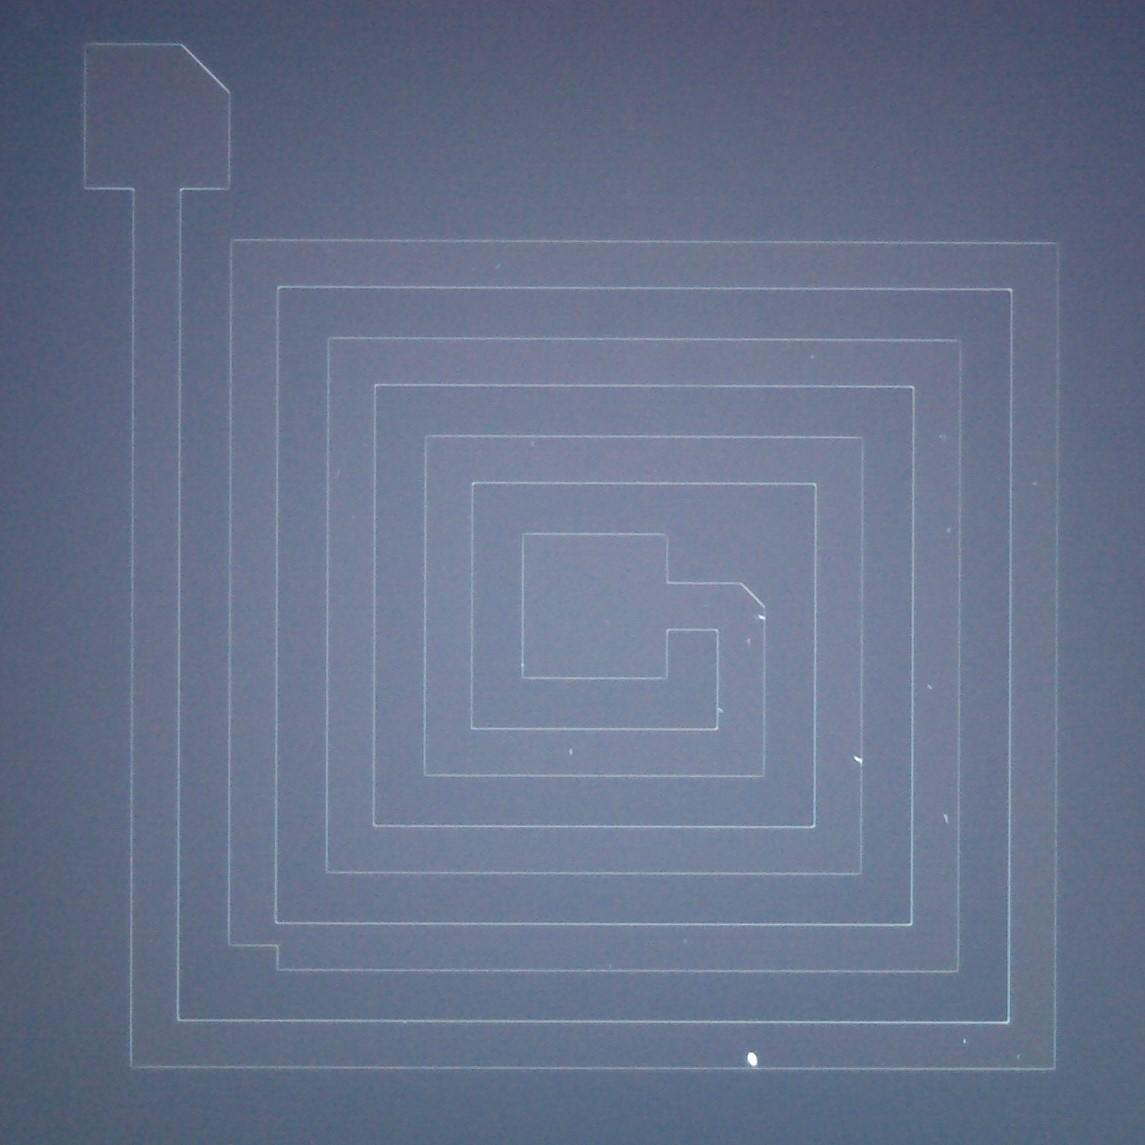B_point: (744, 1050, 760, 1068), (851, 754, 865, 766), (939, 812, 952, 824), (756, 612, 768, 623)
cut: (206, 893, 316, 989), (168, 30, 254, 108), (729, 566, 786, 630)
s_point: (958, 1035, 971, 1049), (1012, 1051, 1025, 1063), (924, 680, 936, 694), (943, 523, 955, 537), (1029, 477, 1041, 490), (935, 431, 948, 444), (714, 705, 727, 716), (699, 600, 712, 611), (526, 438, 539, 450), (332, 468, 345, 479), (743, 636, 755, 648), (565, 746, 577, 757), (348, 512, 360, 523), (493, 261, 504, 273), (602, 617, 613, 627), (806, 352, 818, 363), (679, 936, 691, 947), (604, 962, 615, 972), (468, 264, 479, 275), (518, 660, 528, 670)
